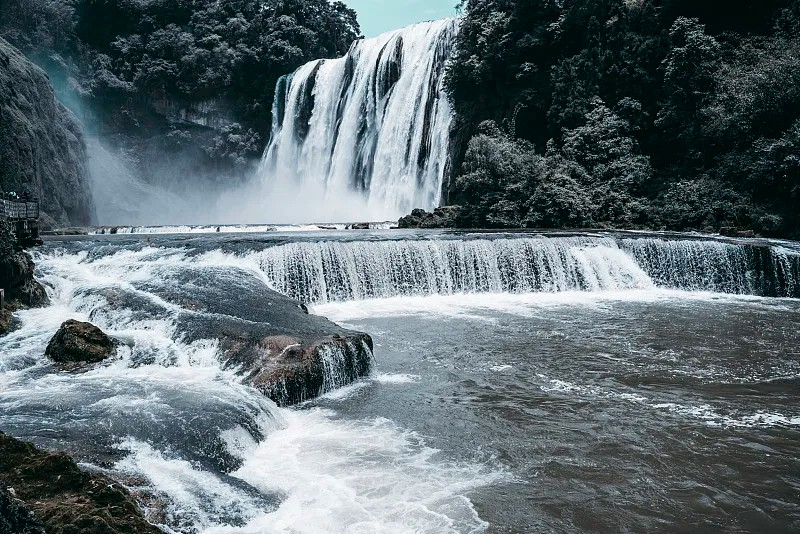Huangguoshu: (261, 17, 454, 221)
